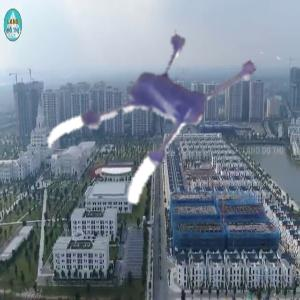drone: (47, 8, 272, 233)
